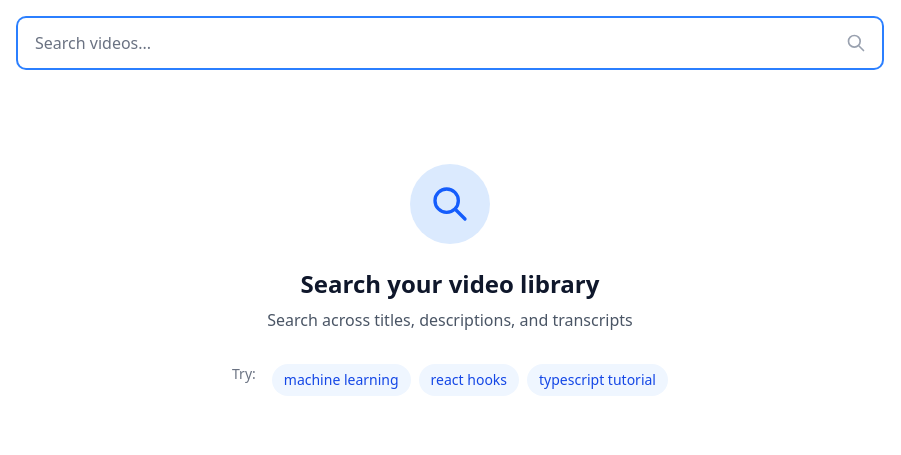
Test: SearchPage Phase 6 Tests › T038: Static Results Tests › should show description results statically without infinite scroll
Type "test" into the search field at (450, 43), box [18,18,882,68]
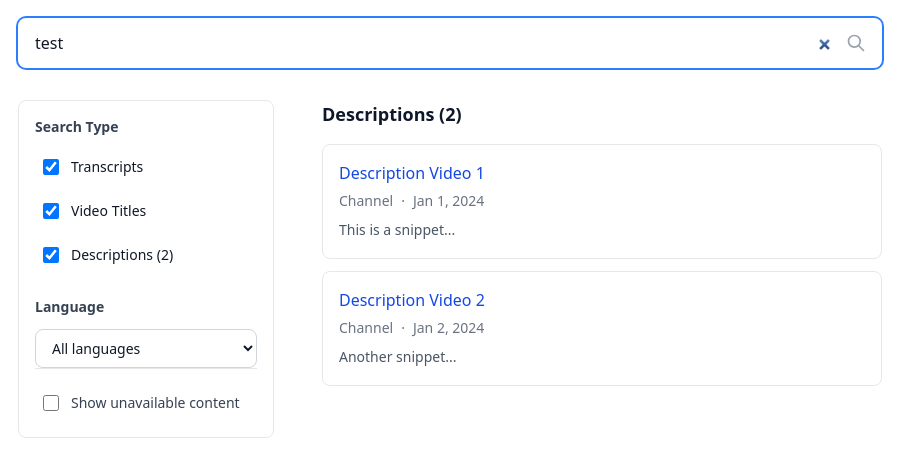
Now the link "Description Video 1" is shown, box [339,162,485,184]
Now the link "Description Video 2" is shown, box [339,289,485,311]
Now the element named "Descriptions" is shown, box [322,100,882,386]
